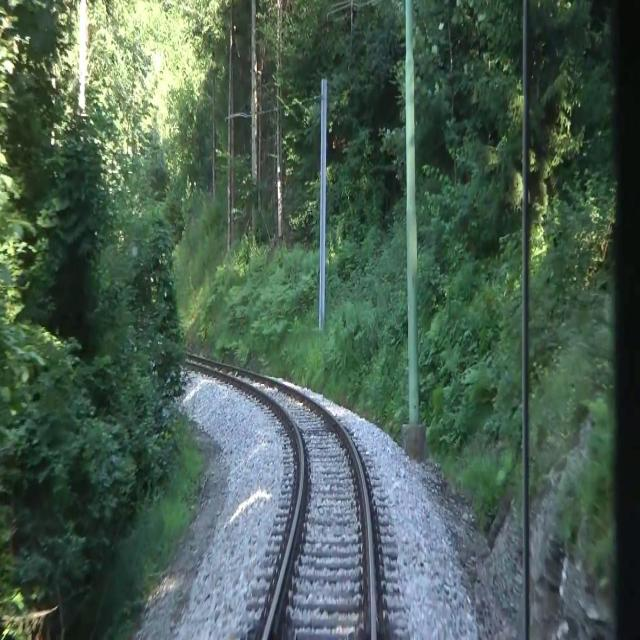rail-track: (213, 364, 370, 639)
